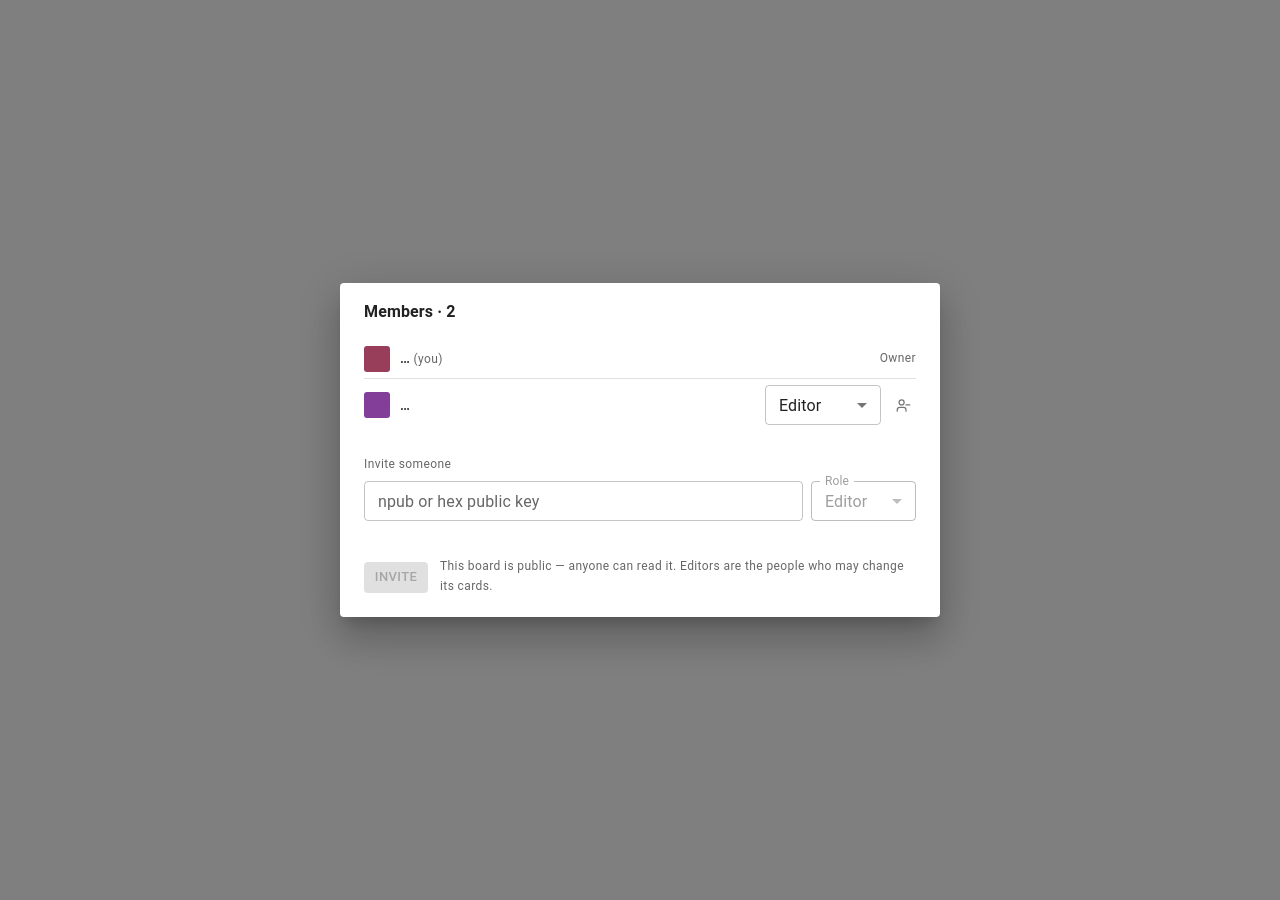
Scenario: MembersDialog › offers no viewer role on a public board
The width and height of the screenshot is (1280, 900).
Press the mouse on the dropdown labelled "Editor" below "Owner" at (800, 405), box [779,396,821,415]
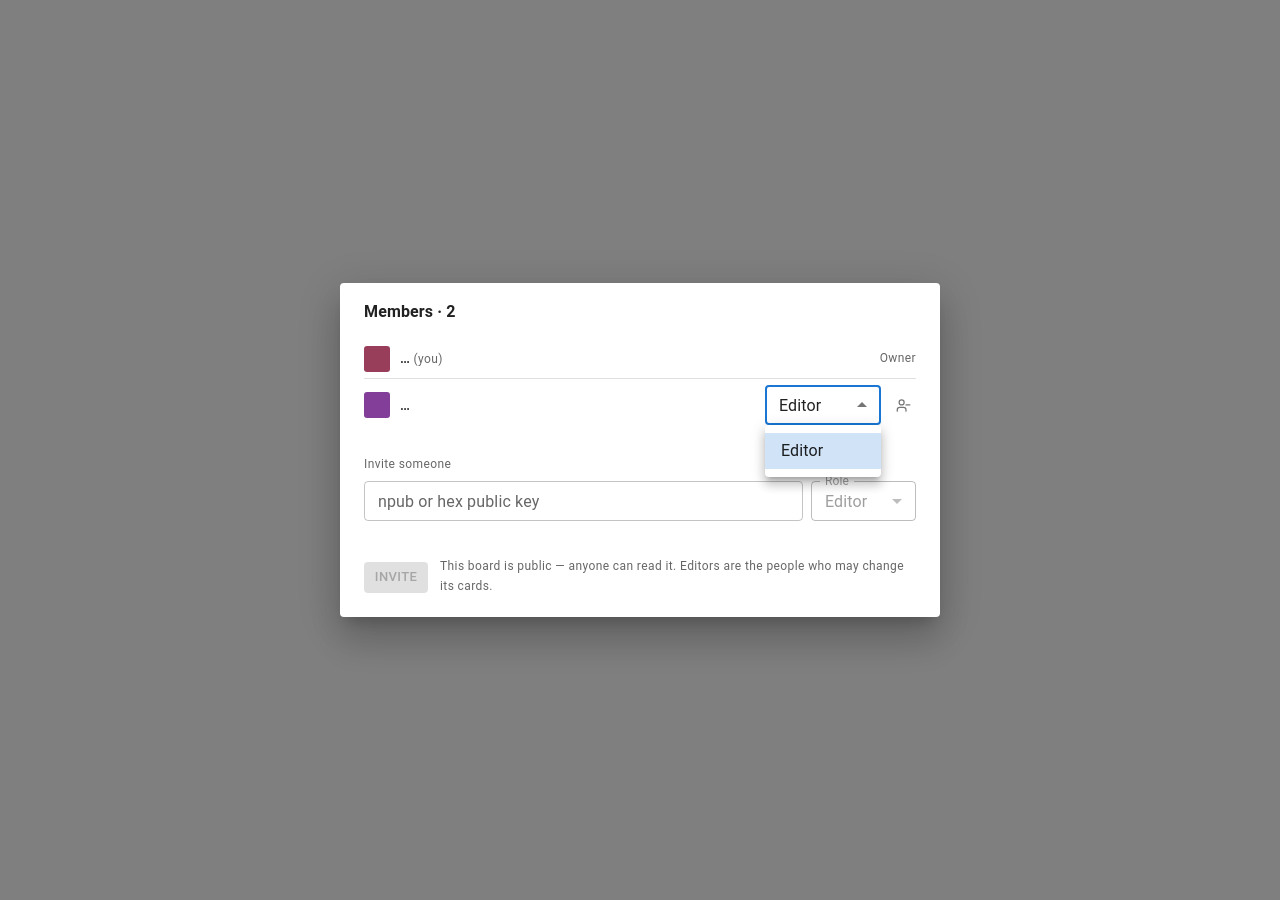
Now the option "Editor" is shown, box [765,433,881,469]
